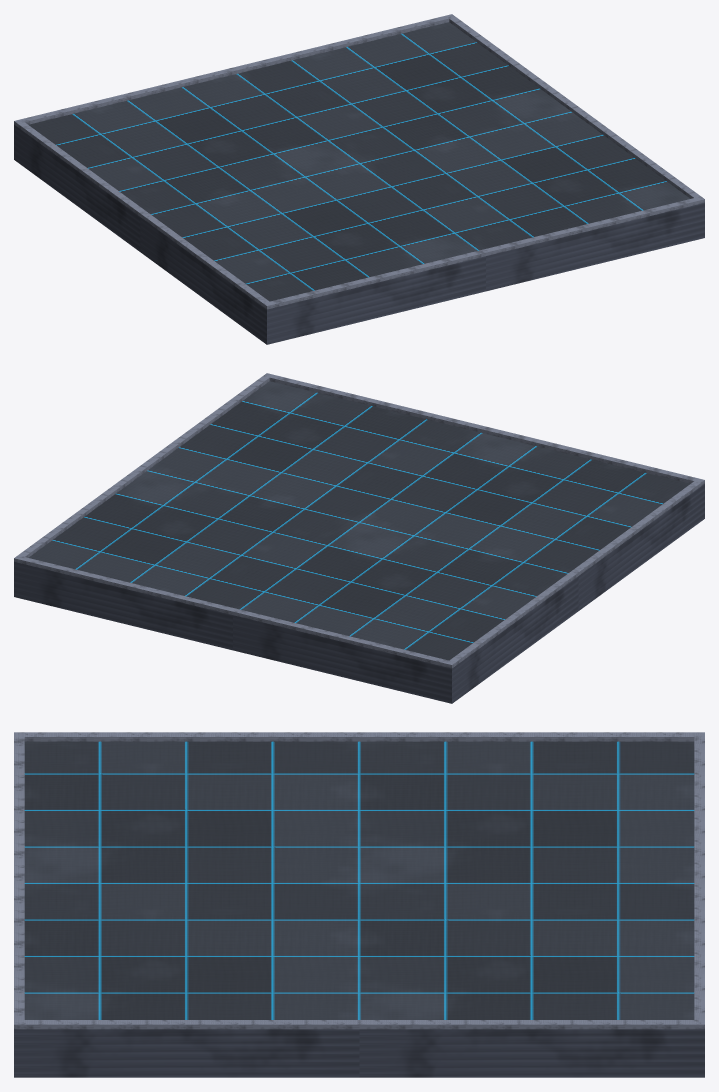
File: arena.glb
The picture shows the model from 3 angles, top to bottom: view 1: azimuth 30°, elevation 25°; view 2: azimuth 150°, elevation 25°; view 3: azimuth 270°, elevation 25°; orthographic projection. The views are drawn at different scales.
Visible parts, largest first — view 1: arena; view 2: arena; view 3: arena.
Boxes of the visible parts, <box> form: arena: <box>14,14,704,344</box>; arena: <box>14,373,704,703</box>; arena: <box>14,732,704,1077</box>.
Size of the model in its own units: 13 by 1.1 by 13.
Materials: 3 (3 with a texture image).
